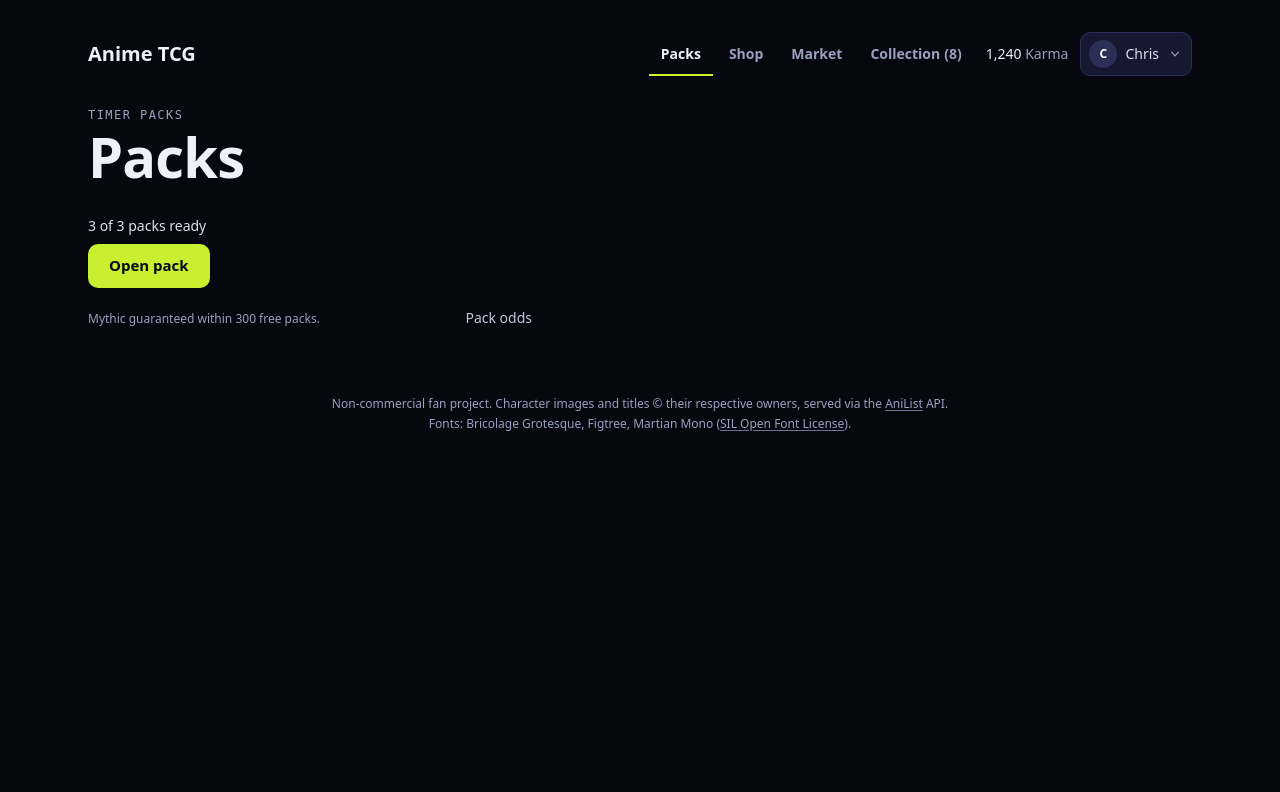
Test: /collection: entering and the header link (collection-overview.md §3.1) › refetches silently each time the page is shown: no skeleton, no spinner
Click the link "Collection (8)": (916, 54) [870,44,962,63]
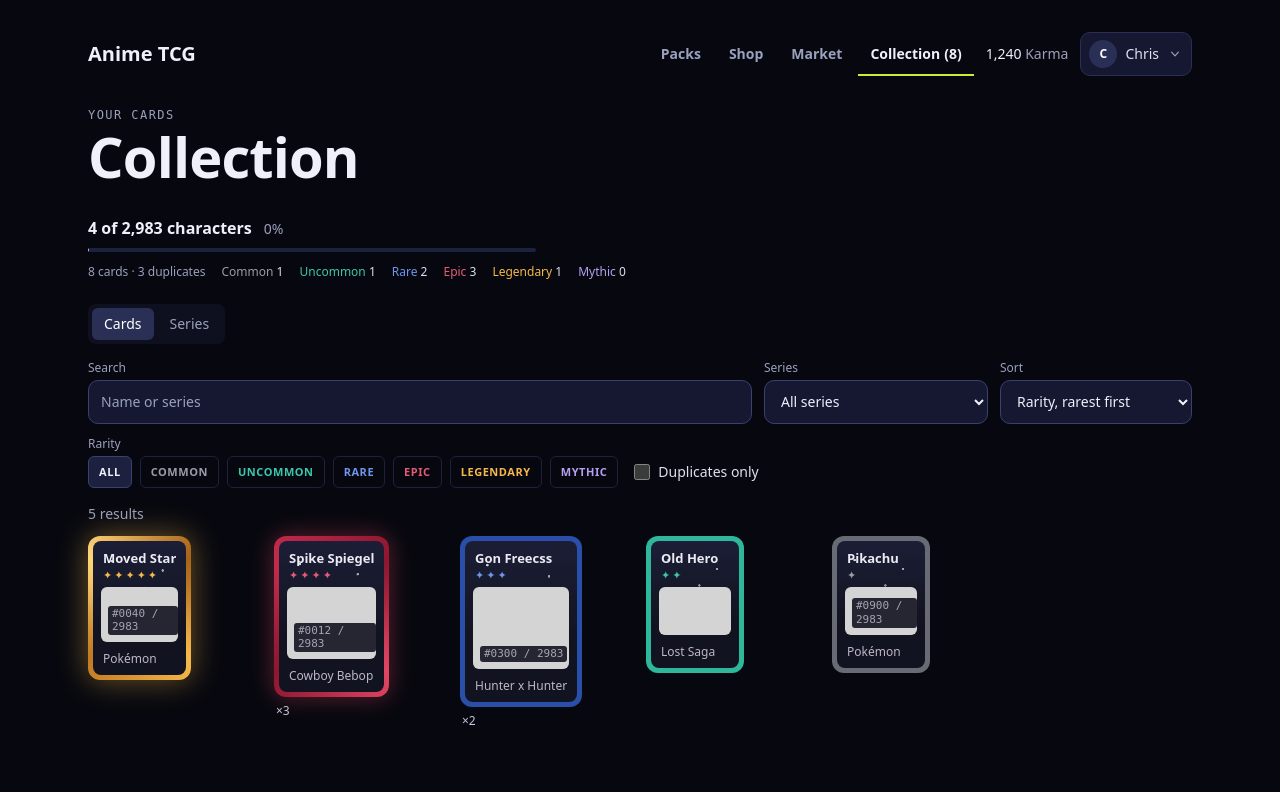
Expected: the list named "results?" is shown, [88,536,1006,729]
